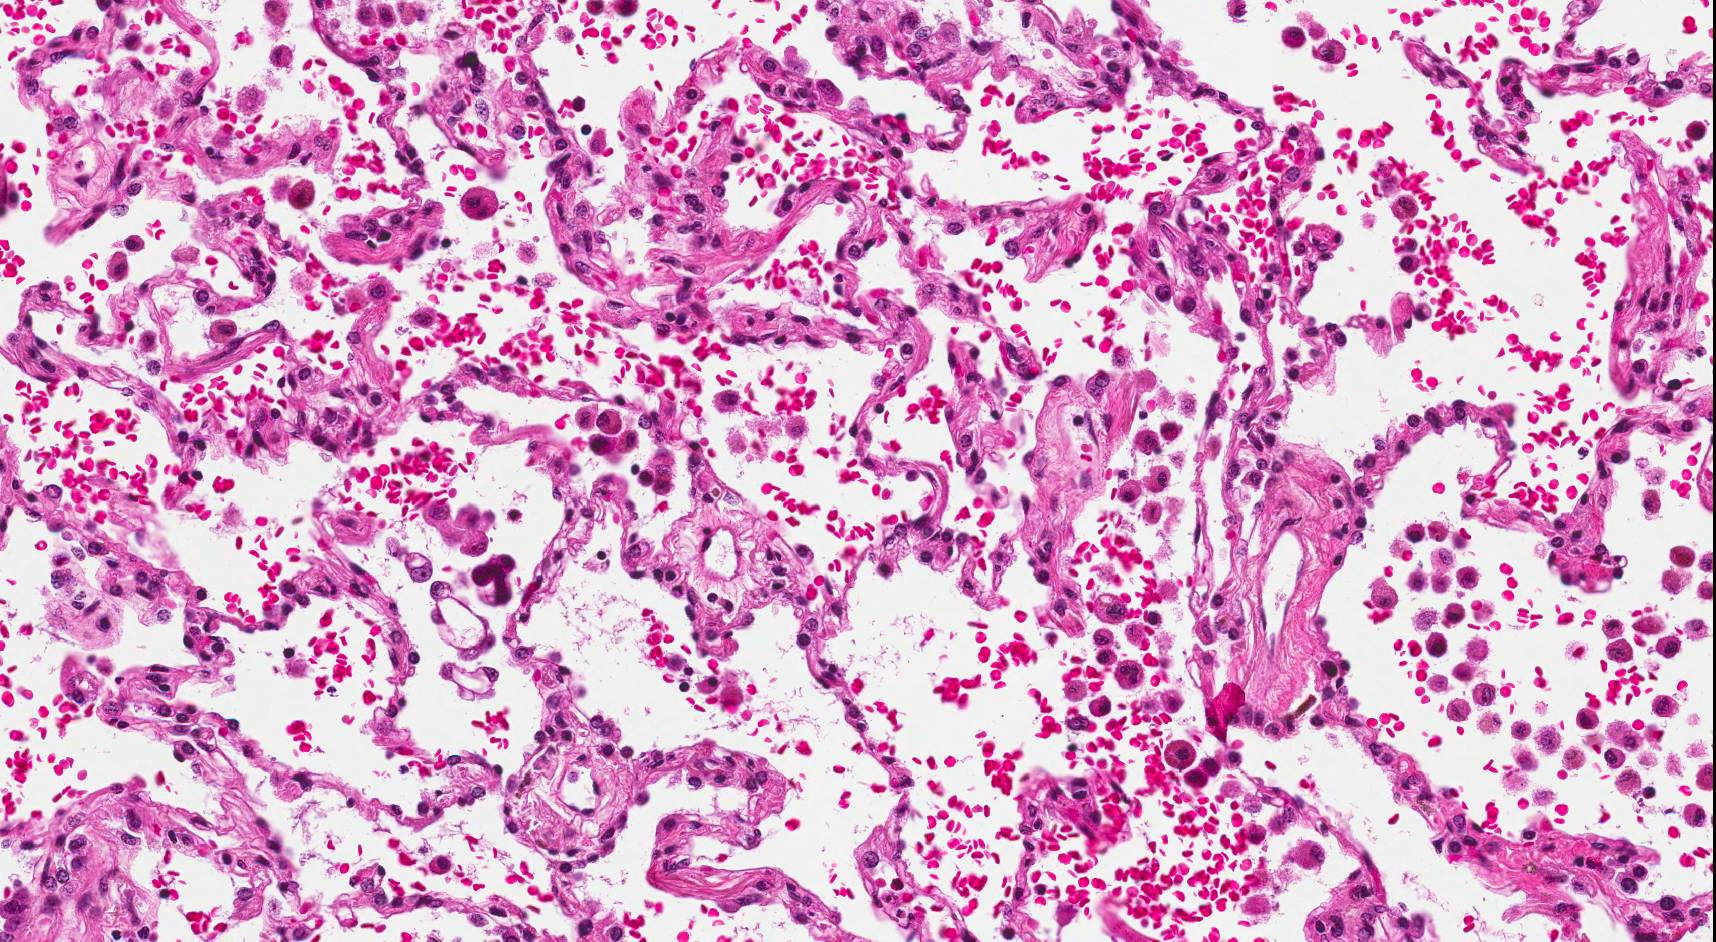stas: (428, 581, 496, 662), (440, 660, 501, 703), (468, 554, 517, 606), (403, 551, 435, 583)
